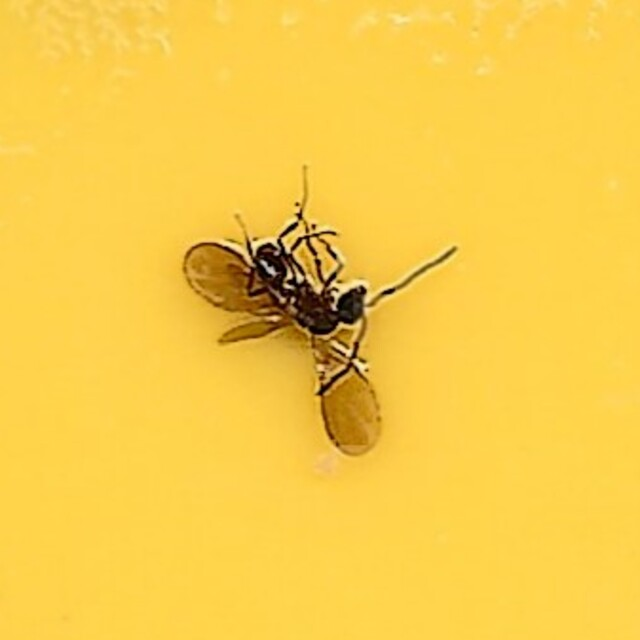Hymenoptera: (190, 184, 450, 456)
